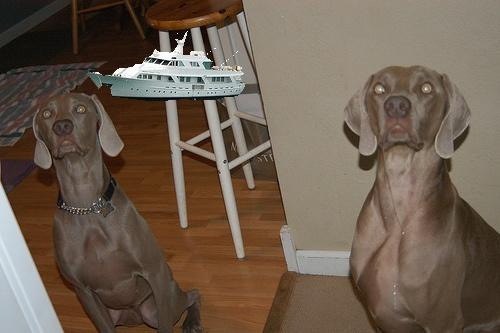tampered: (87, 32, 245, 101)
